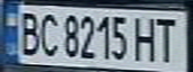1: (93, 12, 112, 61)
2: (78, 11, 96, 60)
5: (109, 12, 133, 61)
8: (60, 10, 81, 60)
B: (15, 8, 42, 57)
C: (36, 9, 60, 57)
H: (130, 14, 163, 63)
T: (151, 14, 184, 63)
